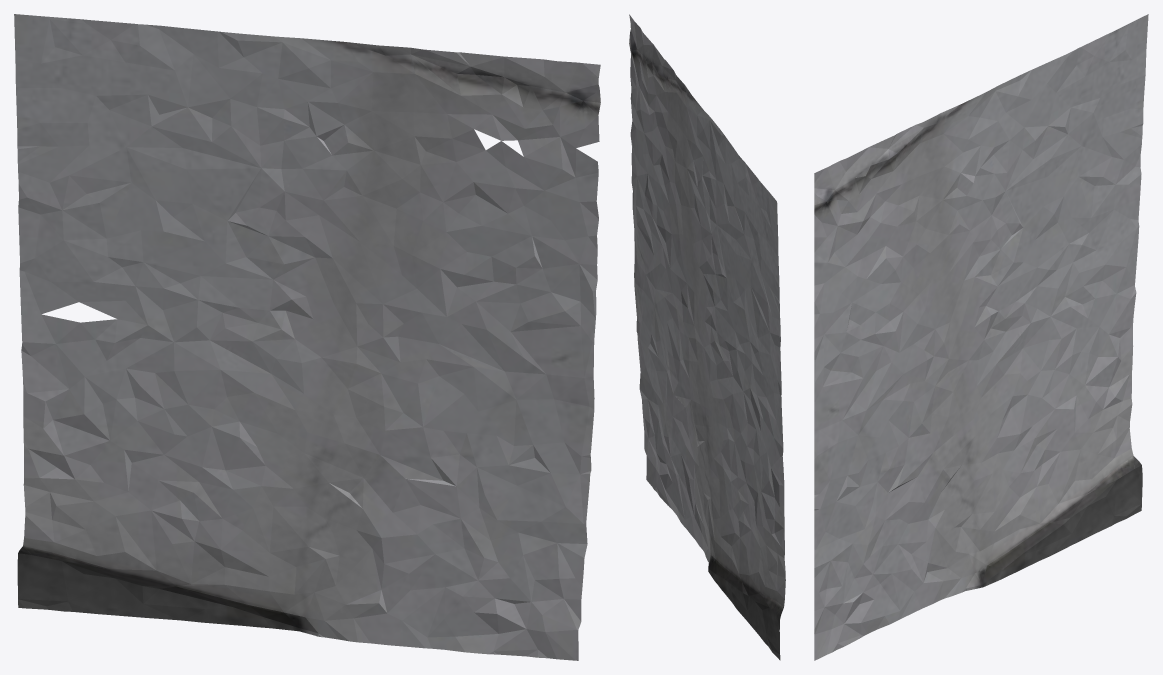
3 renders of one model, left to right at view 1: azimuth 30°, elevation 25°; view 2: azimuth 150°, elevation 25°; view 3: azimuth 270°, elevation 25°, orthographic. The views are drawn at different scales.
Bounding box in the file's own units: 0.5756 × 0.8374 × 0.5104.
3 materials, 3 textured.
